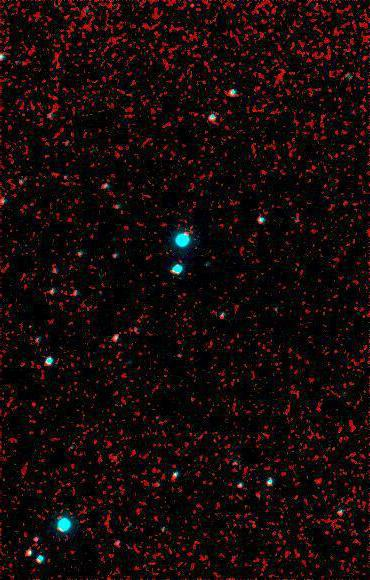star: (178, 0, 208, 20)
